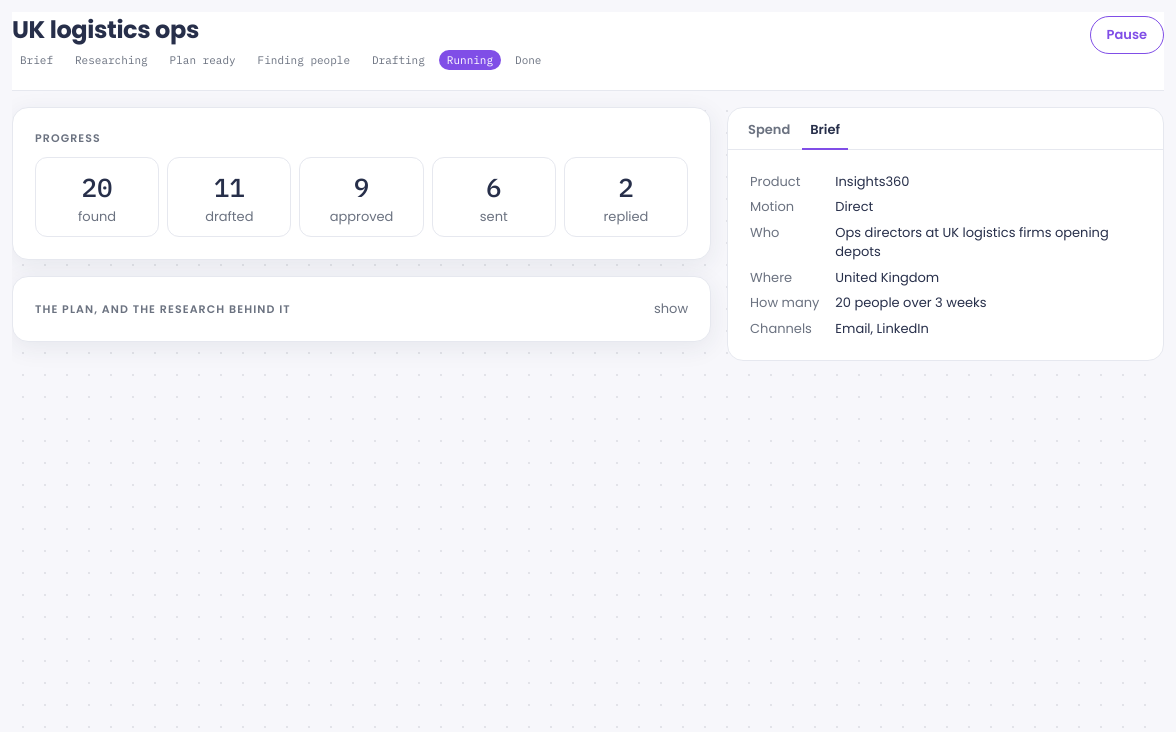
Test: the campaign page, by state › Pause becomes Resume, and nothing was spent doing it
What coordinates should you click on to do the following:
click the button "Pause"
I would click on:
 (1127, 35)
Its box is [1090,16,1164,54].
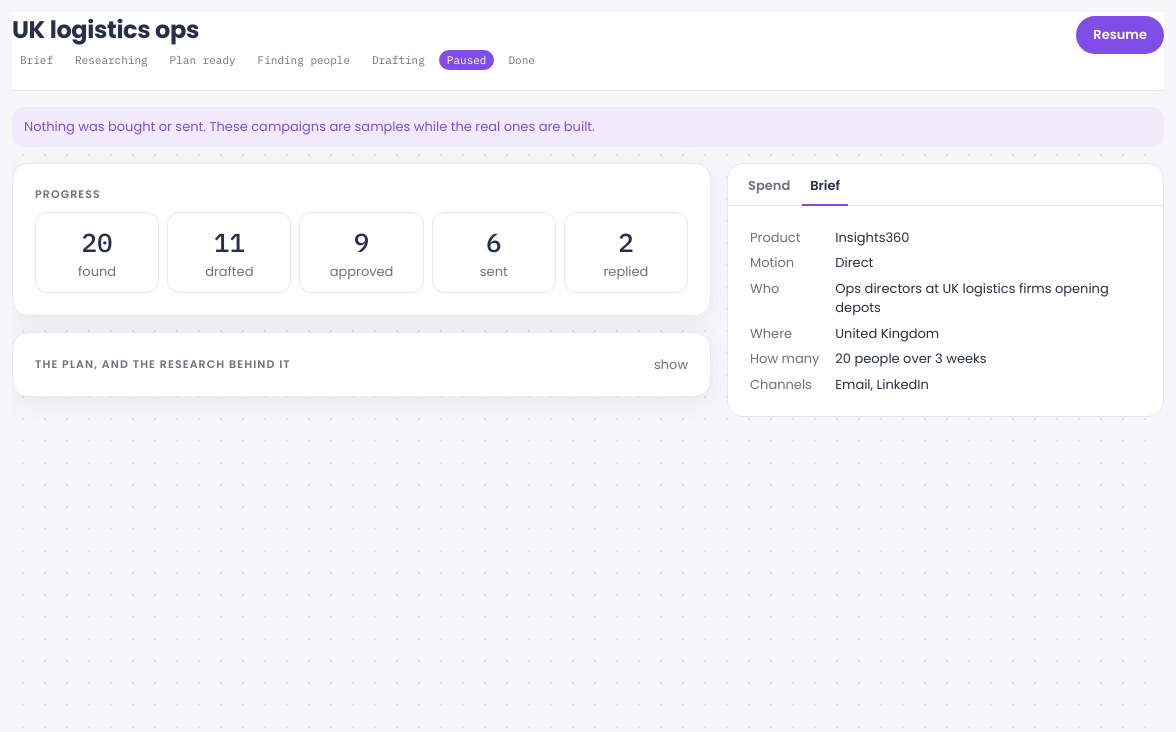
Expected: the button "Resume" is shown, [1076,16,1164,54]
Expected: the text with test id "campaign-toast" shows "Nothing was bought or sent. These campaigns are samples while the real ones are built.", [24,117,595,136]
